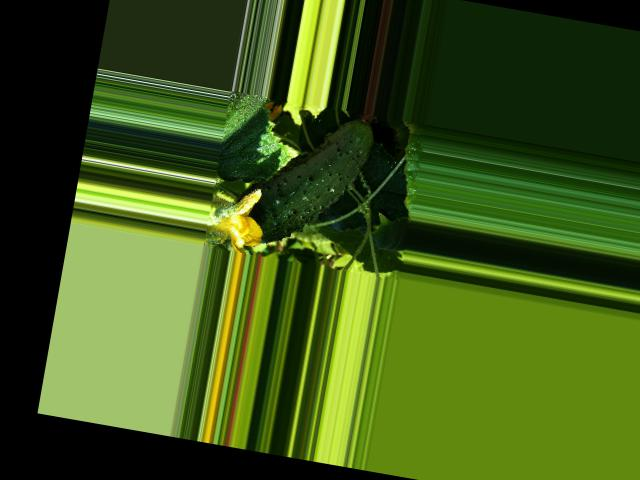cucumber: (230, 93, 379, 259)
